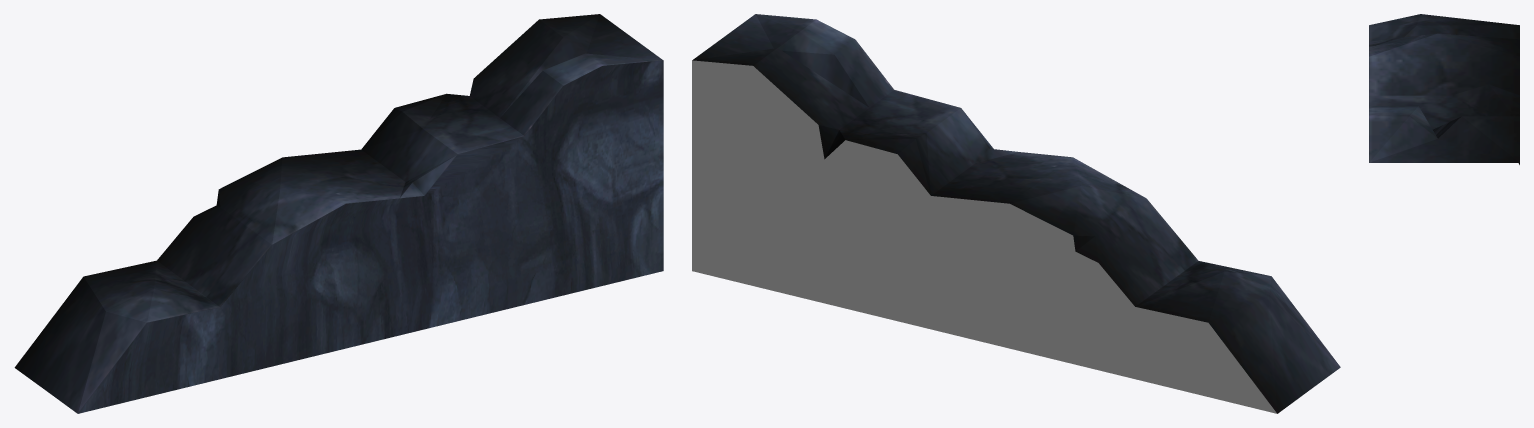
File: mine_broken_trancap_02.fbx
3 renders of one model, left to right at view 1: azimuth 30°, elevation 25°; view 2: azimuth 150°, elevation 25°; view 3: azimuth 270°, elevation 25°, orthographic. The views are drawn at different scales.
Parts seen in each view (by area): view 1: obj2.005; view 2: obj2.005; view 3: obj2.005.
Part boxes in pixels (x1=…): obj2.005: x1=14, y1=14, x2=663, y2=413; obj2.005: x1=692, y1=14, x2=1340, y2=413; obj2.005: x1=1369, y1=14, x2=1519, y2=164.
Bounding box in the file's own units: 4 × 1.44 × 0.75.
